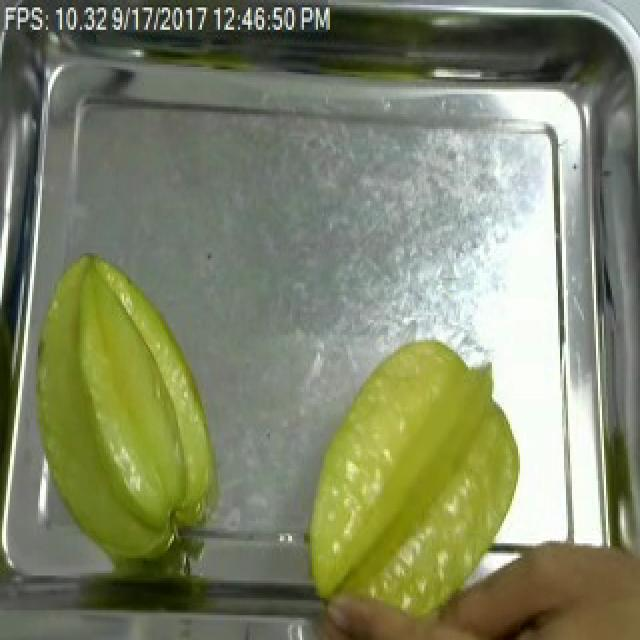fruit: (292, 332, 530, 638), (16, 240, 230, 576), (498, 531, 640, 640)
